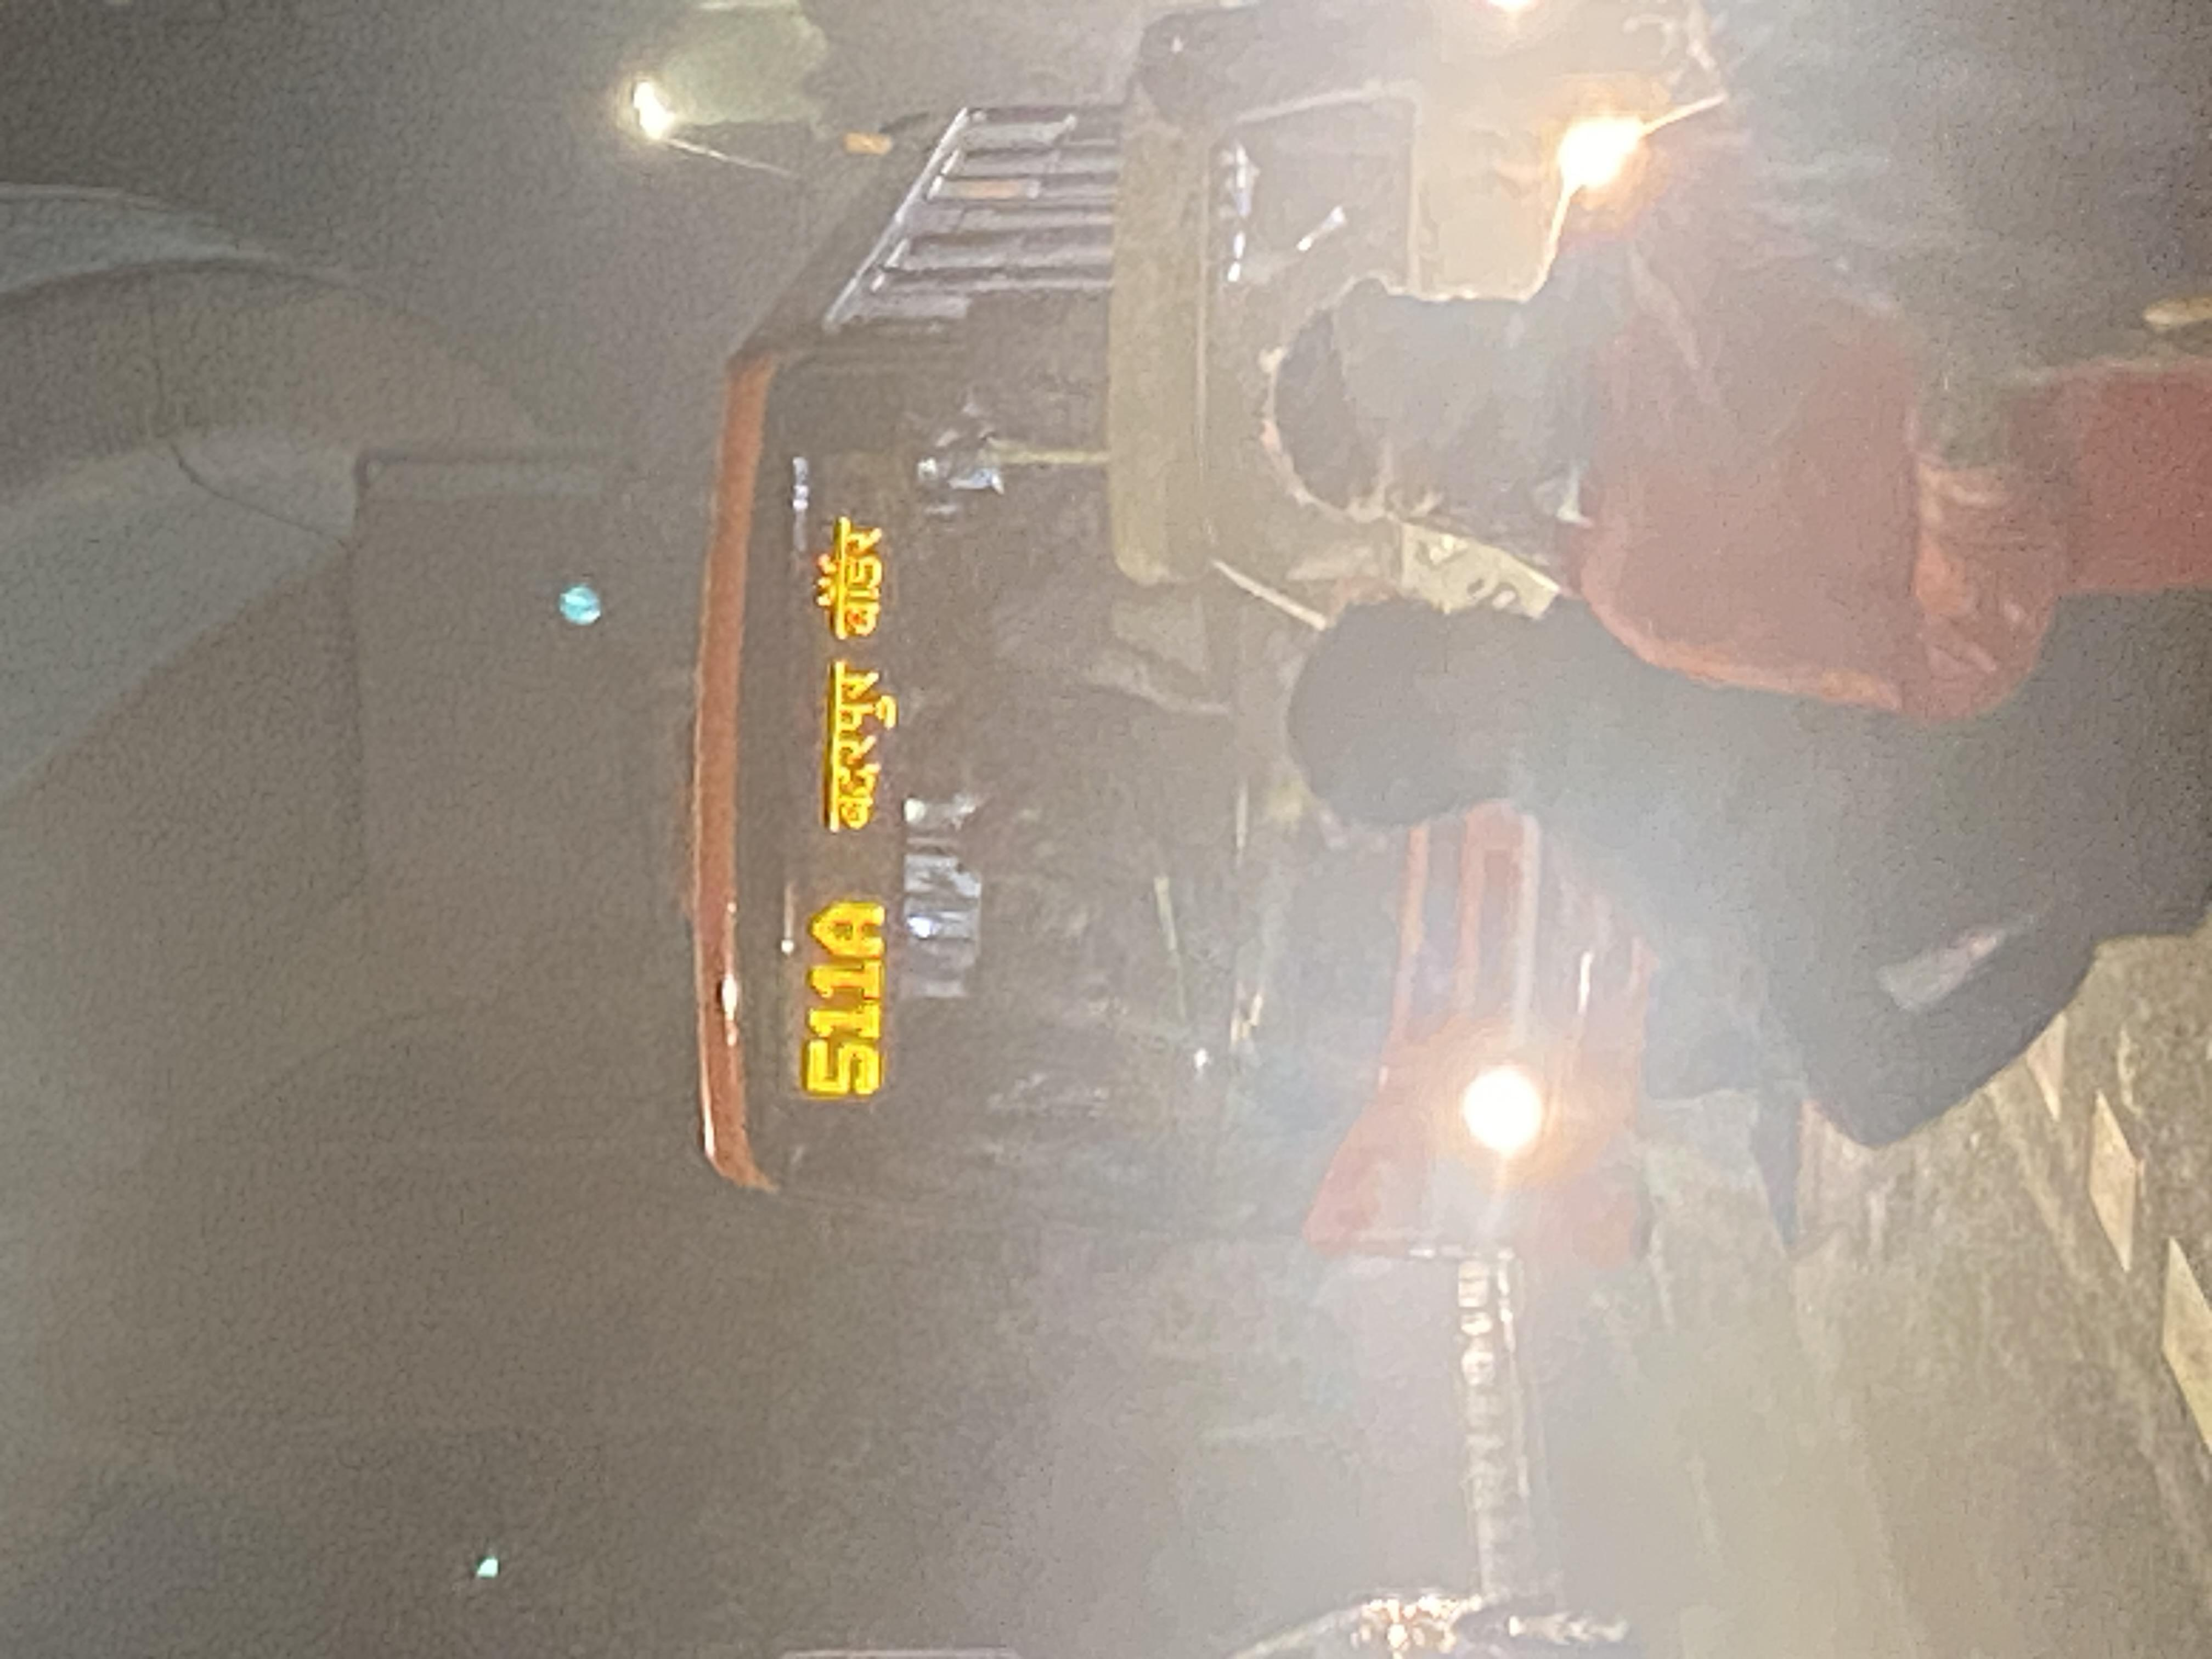Bus: (658, 319, 1656, 1262)
Display Board: (740, 324, 921, 1185)
